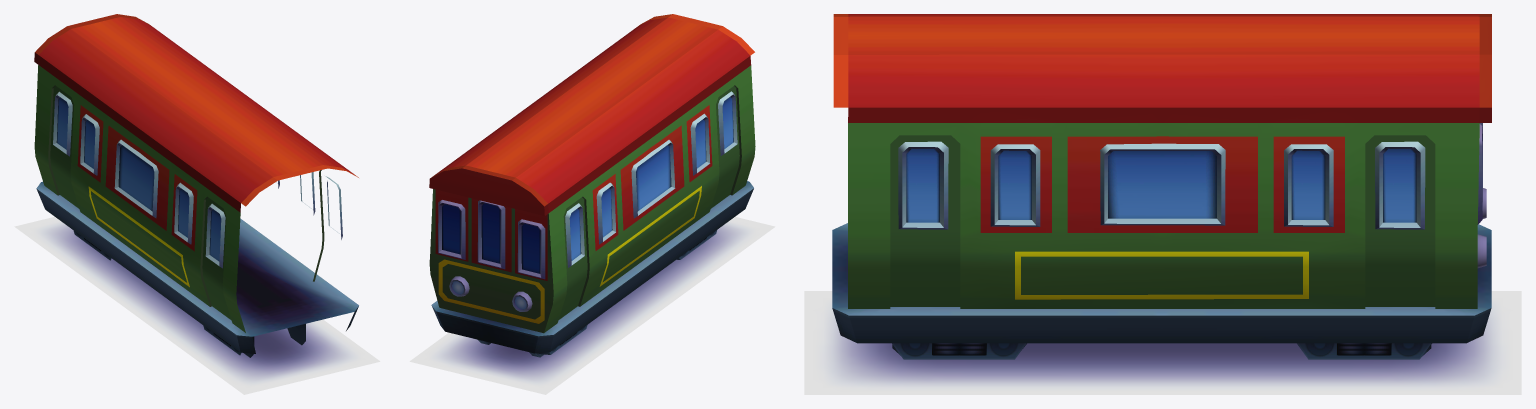
The model's file is 1.100_SanFrancisco_train_standard.glb.
The picture shows the model from 3 angles, left to right: view 1: azimuth 30°, elevation 25°; view 2: azimuth 150°, elevation 25°; view 3: azimuth 270°, elevation 25°; orthographic projection. The views are drawn at different scales.
Parts seen in each view (by area): view 1: 1.100_SanFrancisco_train_standard, shadow; view 2: 1.100_SanFrancisco_train_standard, shadow; view 3: 1.100_SanFrancisco_train_standard, shadow.
Part boxes in pixels (<box>): 1.100_SanFrancisco_train_standard: <box>34,14,358,357</box>; shadow: <box>14,216,380,394</box>; 1.100_SanFrancisco_train_standard: <box>429,14,755,357</box>; shadow: <box>409,216,775,394</box>; 1.100_SanFrancisco_train_standard: <box>832,14,1491,359</box>; shadow: <box>804,291,1521,394</box>.
Bounding box in the file's own units: 20.58 × 28.35 × 60.
3 materials, 3 textured.
